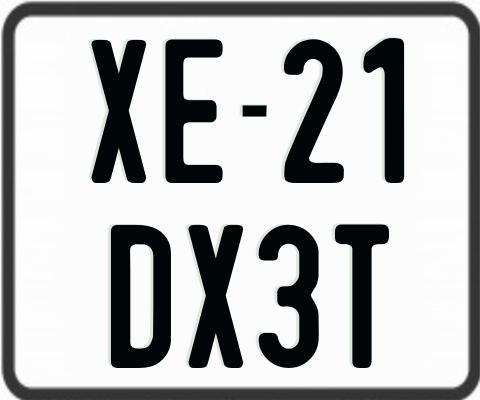1: (362, 36, 408, 187)
2: (284, 36, 344, 186)
3: (258, 225, 324, 373)
D: (108, 225, 170, 368)
E: (163, 36, 226, 182)
T: (335, 223, 390, 373)
X: (91, 38, 151, 183), (185, 223, 242, 369)
